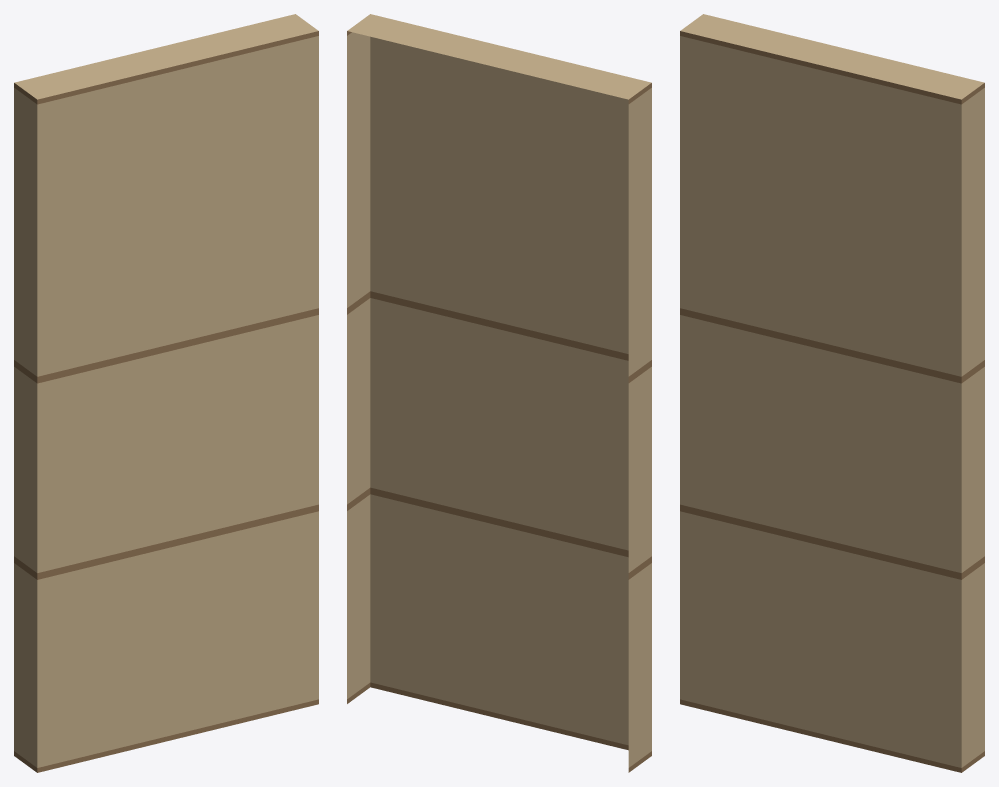
File: M_WallTile175x400-1Biege80.FBX
3 views of the same model, side by side, from view 1: azimuth 30°, elevation 25°; view 2: azimuth 150°, elevation 25°; view 3: azimuth 330°, elevation 25° (orthographic).
Visible parts, largest first — view 1: M_WallTile175x400-1Biege80; view 2: M_WallTile175x400-1Biege80; view 3: M_WallTile175x400-1Biege80.
Boxes of the visible parts, x1,y1,x2,y2 form: M_WallTile175x400-1Biege80: (14,14,318,772); M_WallTile175x400-1Biege80: (347,14,651,772); M_WallTile175x400-1Biege80: (680,14,984,772).
Bounding box in the file's own units: 1.75 × 4 × 0.25.
